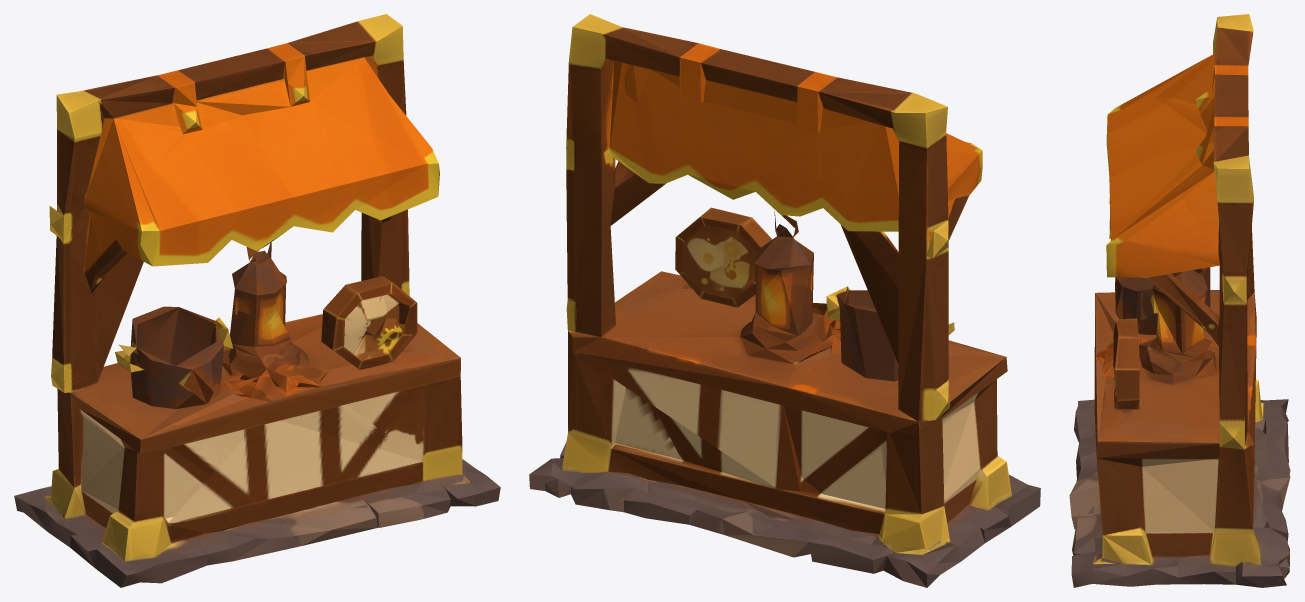
The model's file is TWN_PRP_stall_junk_A.glb.
3 renders of one model, left to right at view 1: azimuth 30°, elevation 25°; view 2: azimuth 150°, elevation 25°; view 3: azimuth 270°, elevation 25°, orthographic. The views are drawn at different scales.
Parts seen in each view (by area): view 1: Mesh_0; view 2: Mesh_0; view 3: Mesh_0.
Part boxes in pixels (<box>): Mesh_0: <box>14,14,500,587</box>; Mesh_0: <box>529,14,1040,587</box>; Mesh_0: <box>1069,14,1290,587</box>.
Size of the model in its own units: 1.75 by 1.89 by 0.9246.
Materials: 1 (1 with a texture image).
